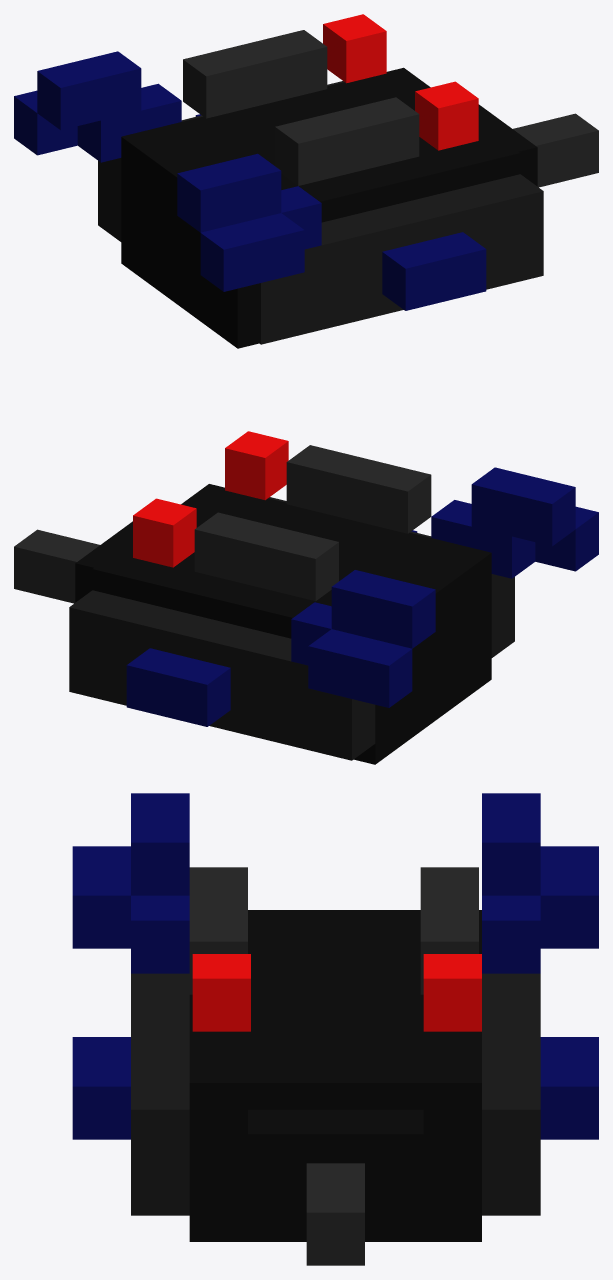
The model's file is endBoss.fbx.
The picture shows the model from 3 angles, top to bottom: view 1: azimuth 30°, elevation 25°; view 2: azimuth 150°, elevation 25°; view 3: azimuth 270°, elevation 25°; orthographic projection. The views are drawn at different scales.
Visible parts, largest first — view 1: Box001, Box003, Box012, Box011, Box019, Box008, Box018, Box020, Box005, Box015, Box013, Box014 (+4 smaller); view 2: Box001, Box002, Box011, Box012, Box020, Box010, Box019, Box017, Box005, Box014, Box016, Box013 (+4 smaller); view 3: Box001, Box004, Box002, Box003, Box005, Box008, Box010, Box017, Box018, Box019, Box020, Box011 (+5 smaller).
Boxes of the visible parts, box(x1,y1,x2,y2) form: Box001: box(121, 67, 520, 348); Box003: box(237, 174, 543, 344); Box012: box(183, 30, 327, 118); Box011: box(275, 97, 419, 185); Box019: box(37, 51, 141, 130); Box008: box(382, 232, 486, 310); Box018: box(200, 213, 304, 291); Box020: box(177, 153, 281, 232); Box005: box(513, 113, 598, 187); Box015: box(77, 83, 181, 162); Box013: box(323, 14, 386, 83); Box014: box(415, 81, 478, 150); Box001: box(92, 484, 491, 764); Box002: box(69, 590, 375, 760); Box011: box(286, 445, 431, 533); Box012: box(194, 512, 338, 601); Box020: box(471, 467, 575, 546); Box010: box(126, 648, 230, 726); Box019: box(331, 570, 435, 648); Box017: box(308, 629, 412, 707); Box005: box(14, 529, 99, 603); Box014: box(225, 431, 288, 500); Box016: box(431, 500, 535, 578); Box013: box(133, 498, 196, 567); Box001: box(189, 910, 481, 1241); Box004: box(248, 1109, 423, 1240); Box002: box(482, 973, 540, 1215); Box003: box(131, 973, 189, 1215); Box005: box(306, 1163, 364, 1265); Box008: box(72, 1037, 130, 1139); Box010: box(540, 1037, 598, 1139); Box017: box(540, 846, 598, 948); Box018: box(72, 846, 130, 948); Box019: box(482, 793, 540, 895); Box020: box(131, 793, 189, 895); Box011: box(189, 867, 247, 994).
Size of the model in its own units: 116 by 55 by 100.
